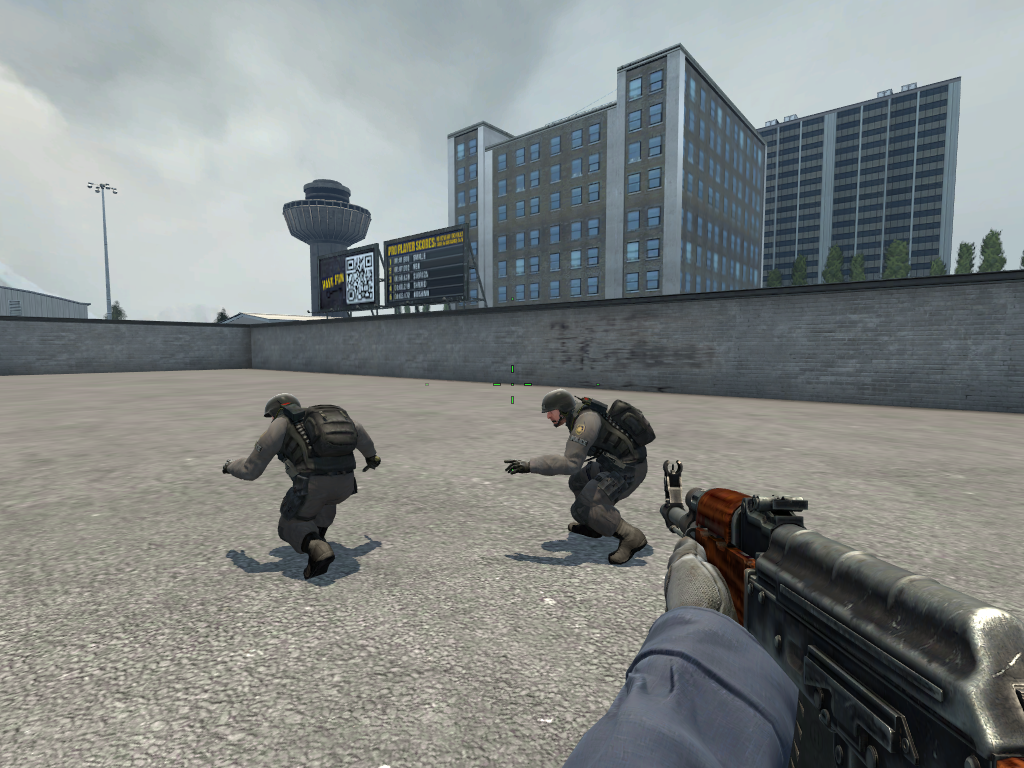ct head: (537, 388, 579, 432), (261, 392, 303, 429)
